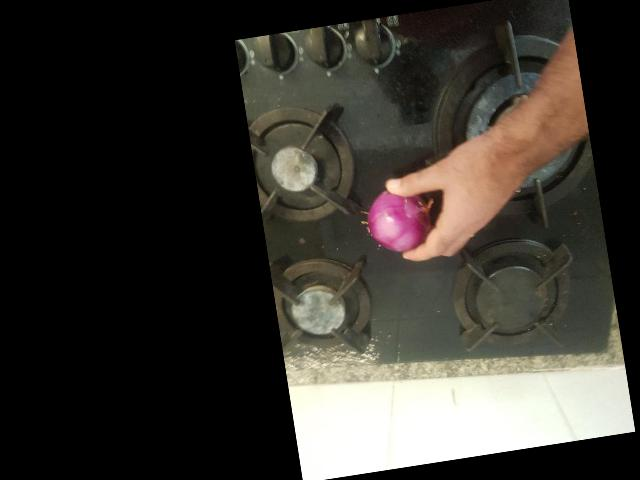onion: (328, 293, 407, 365)
